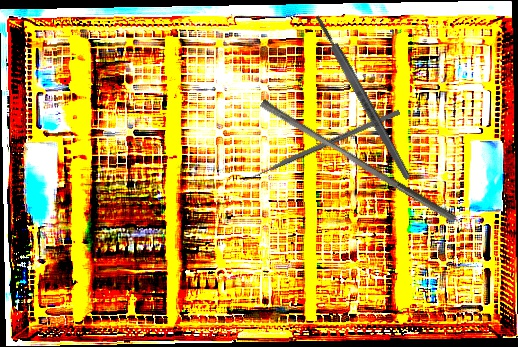Pusher: (255, 98, 462, 223), (238, 108, 401, 186)
Scalpel Handle: (312, 13, 413, 182)
